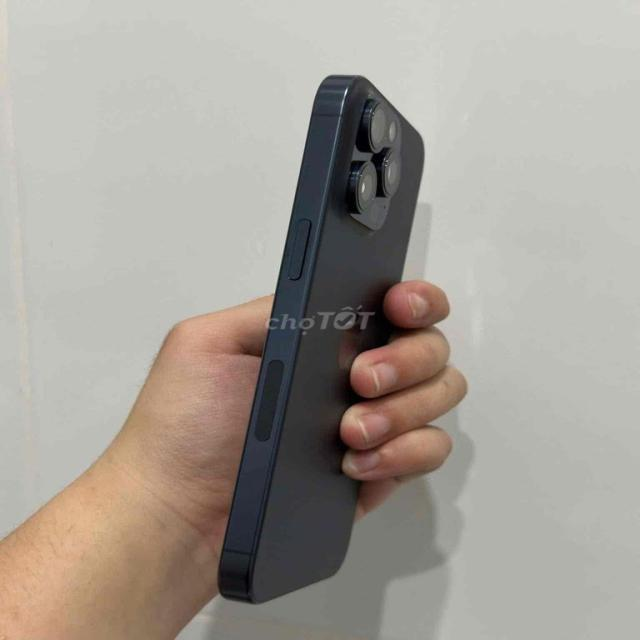gen_15: (210, 70, 432, 629)
